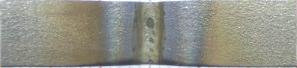soldas: (81, 1, 224, 65)
